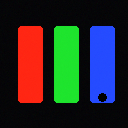0 point: (98, 93, 106, 101)
